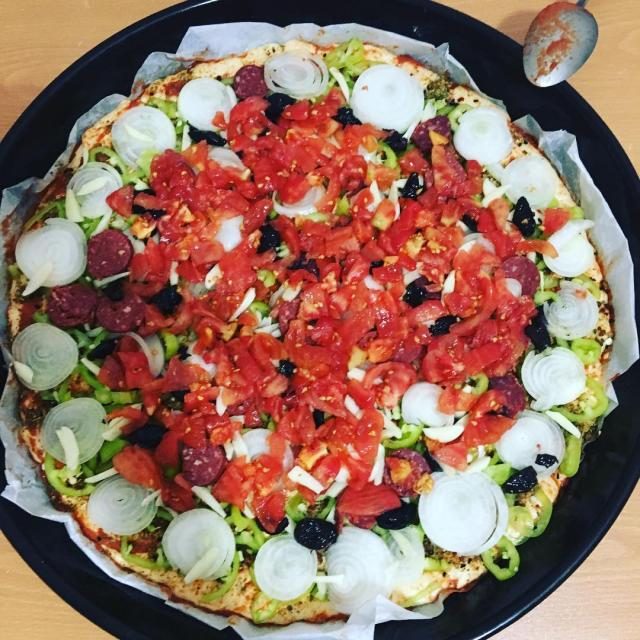black_olives: (294, 517, 340, 551), (377, 502, 423, 531), (523, 319, 555, 357), (265, 89, 299, 121), (149, 287, 182, 318), (503, 465, 537, 494), (85, 336, 124, 361), (255, 220, 281, 256), (514, 196, 536, 238), (187, 129, 227, 147), (431, 317, 463, 332), (333, 107, 357, 127), (403, 172, 420, 200), (406, 285, 429, 303), (388, 135, 408, 152), (106, 280, 123, 300)
pepperoni: (381, 445, 436, 496), (82, 229, 136, 279), (96, 290, 147, 336), (47, 282, 97, 328), (178, 439, 225, 486), (499, 254, 541, 296), (492, 375, 527, 414), (414, 116, 454, 150), (232, 65, 270, 99)
pizza: (5, 36, 612, 630)
tomatoes: (442, 273, 498, 335), (461, 385, 516, 445), (361, 358, 417, 411), (285, 342, 345, 381), (300, 372, 350, 418), (421, 332, 465, 383), (171, 412, 233, 448), (336, 484, 403, 516), (114, 447, 160, 493), (303, 448, 344, 498), (318, 413, 362, 459), (216, 372, 268, 410), (332, 304, 375, 348), (221, 239, 254, 292), (349, 195, 389, 238), (277, 408, 319, 447), (159, 195, 208, 228), (466, 341, 509, 378), (308, 219, 352, 255), (222, 95, 278, 123), (202, 172, 248, 206), (165, 358, 207, 395), (375, 287, 414, 326), (500, 300, 529, 352), (326, 264, 366, 300), (356, 407, 383, 460), (224, 335, 258, 377), (133, 240, 166, 280), (222, 461, 250, 507), (253, 493, 286, 532), (266, 138, 306, 169), (245, 160, 286, 190), (251, 336, 284, 373), (315, 164, 339, 213), (196, 298, 232, 330), (274, 215, 305, 252), (430, 194, 470, 222), (321, 124, 360, 151), (396, 210, 426, 244), (428, 228, 466, 254), (255, 454, 284, 488), (331, 160, 367, 187), (122, 351, 150, 384), (187, 387, 217, 416), (183, 144, 222, 165), (356, 244, 388, 268), (302, 288, 327, 318), (400, 152, 426, 174), (285, 101, 313, 119), (198, 244, 223, 261)
